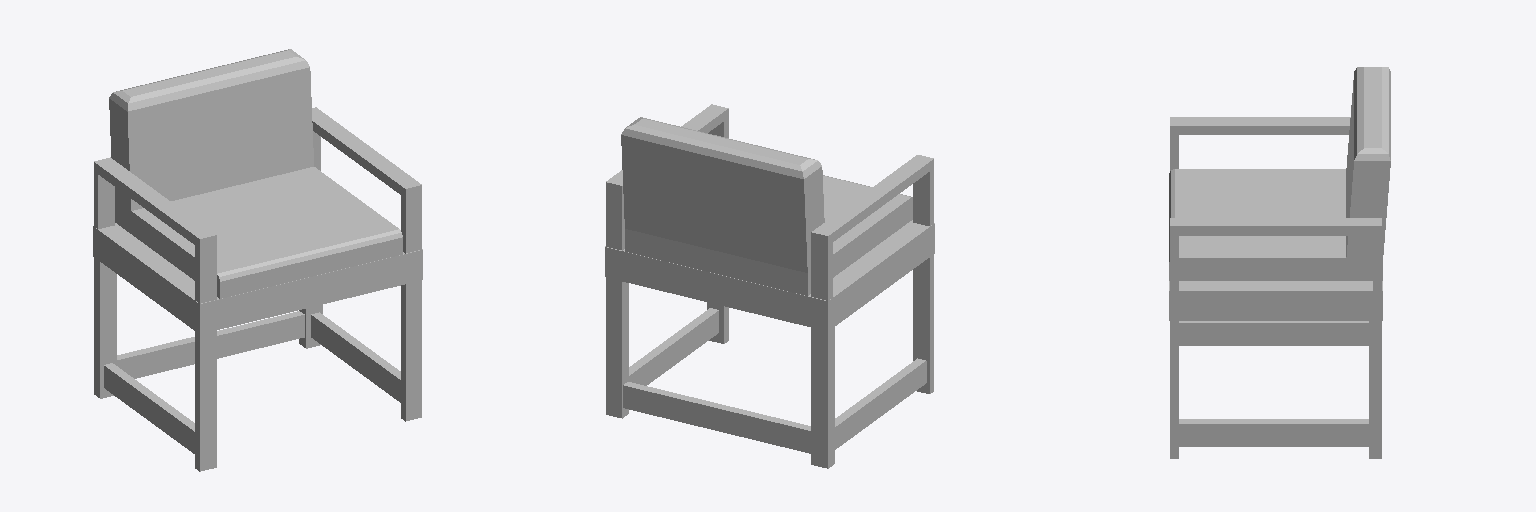
Rendered from Chair_B.obj.
3 views of the same model, side by side, from view 1: azimuth 30°, elevation 25°; view 2: azimuth 150°, elevation 25°; view 3: azimuth 270°, elevation 25° (orthographic).
Visible parts, largest first — view 1: Chair_B; view 2: Chair_B; view 3: Chair_B.
Boxes of the visible parts, x1=… form: Chair_B: x1=93, y1=49, x2=422, y2=471; Chair_B: x1=605, y1=104, x2=934, y2=468; Chair_B: x1=1169, y1=67, x2=1390, y2=458.
Size of the model in its own units: 0.7205 by 0.9134 by 0.6198.